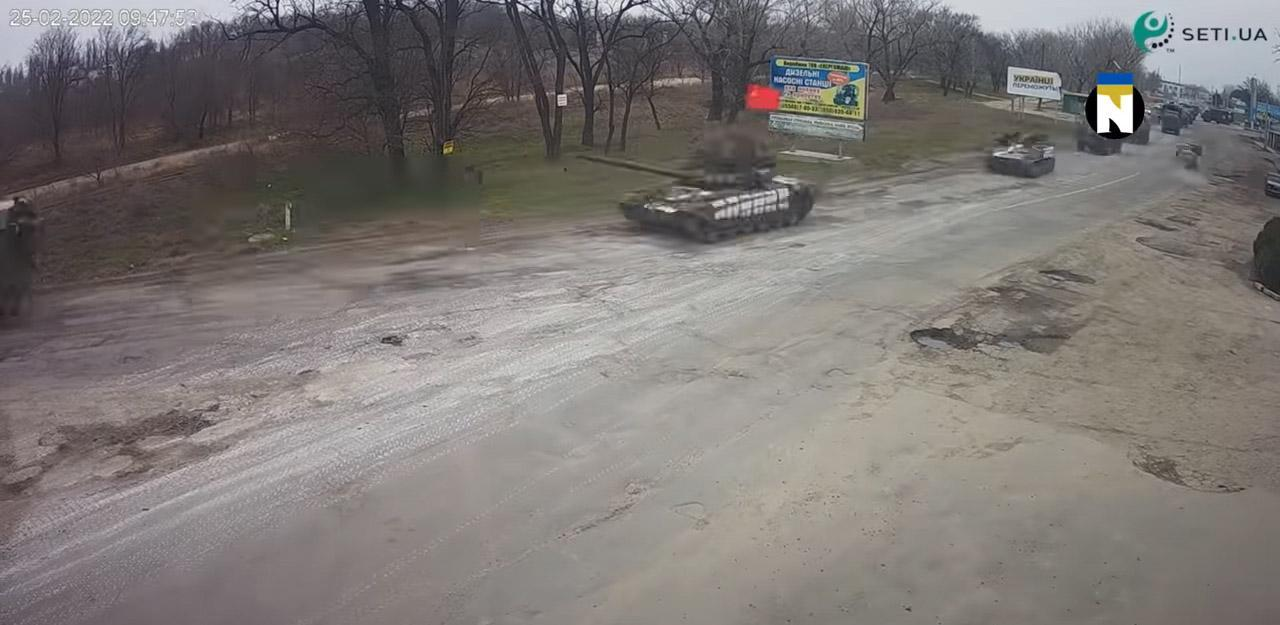tank: (571, 129, 818, 253), (988, 131, 1062, 186)
truck: (0, 198, 51, 328), (1159, 106, 1189, 140)
